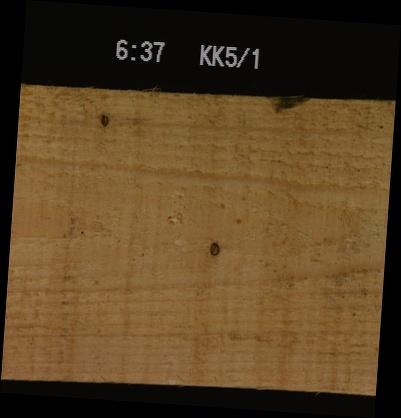dry_knot: (207, 241, 219, 256), (98, 112, 109, 126)
